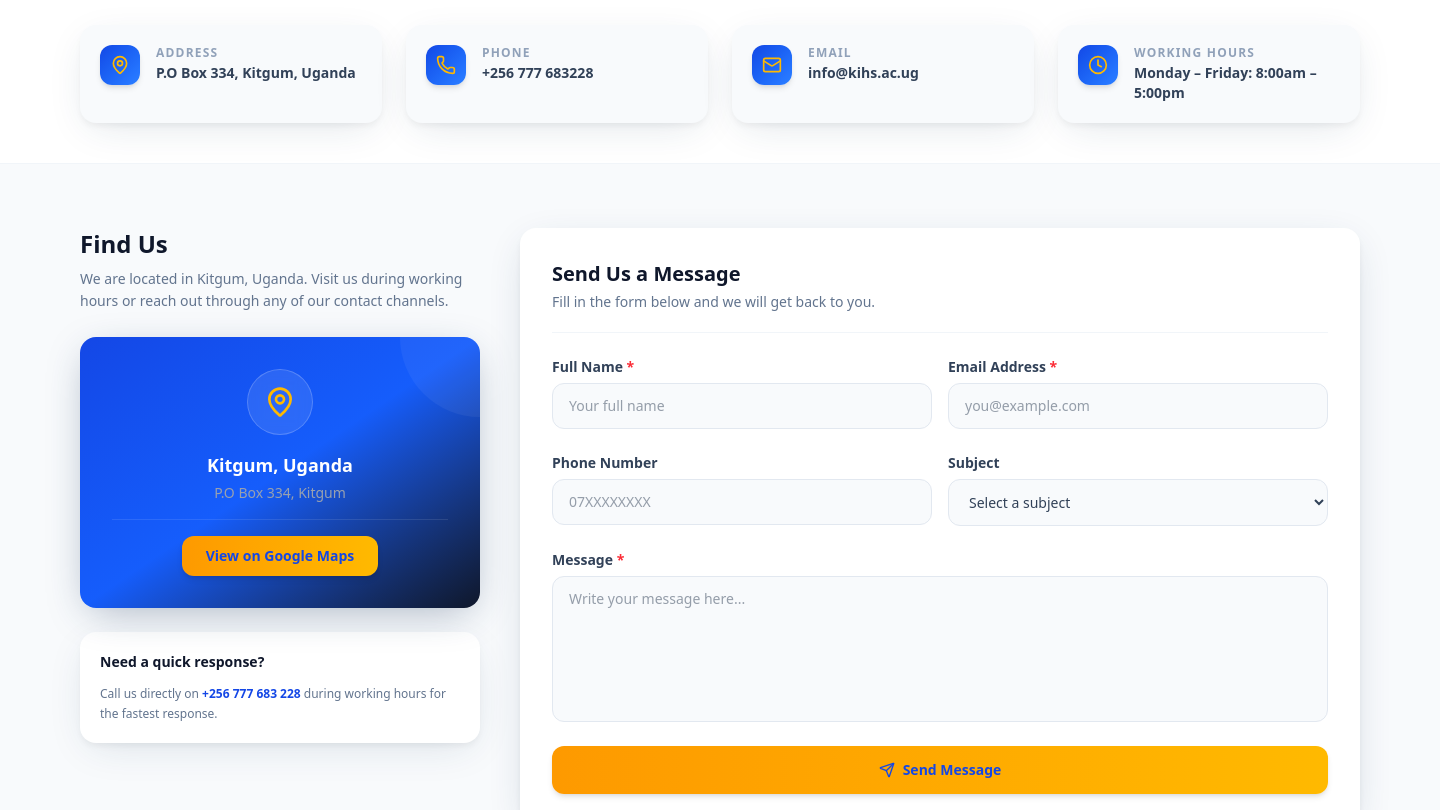
Test case: Contact page › can submit another message after success
(page scrolled)
In the field with placeholder "Your full name": (742, 406) [552,383,932,429], type "John Doe"
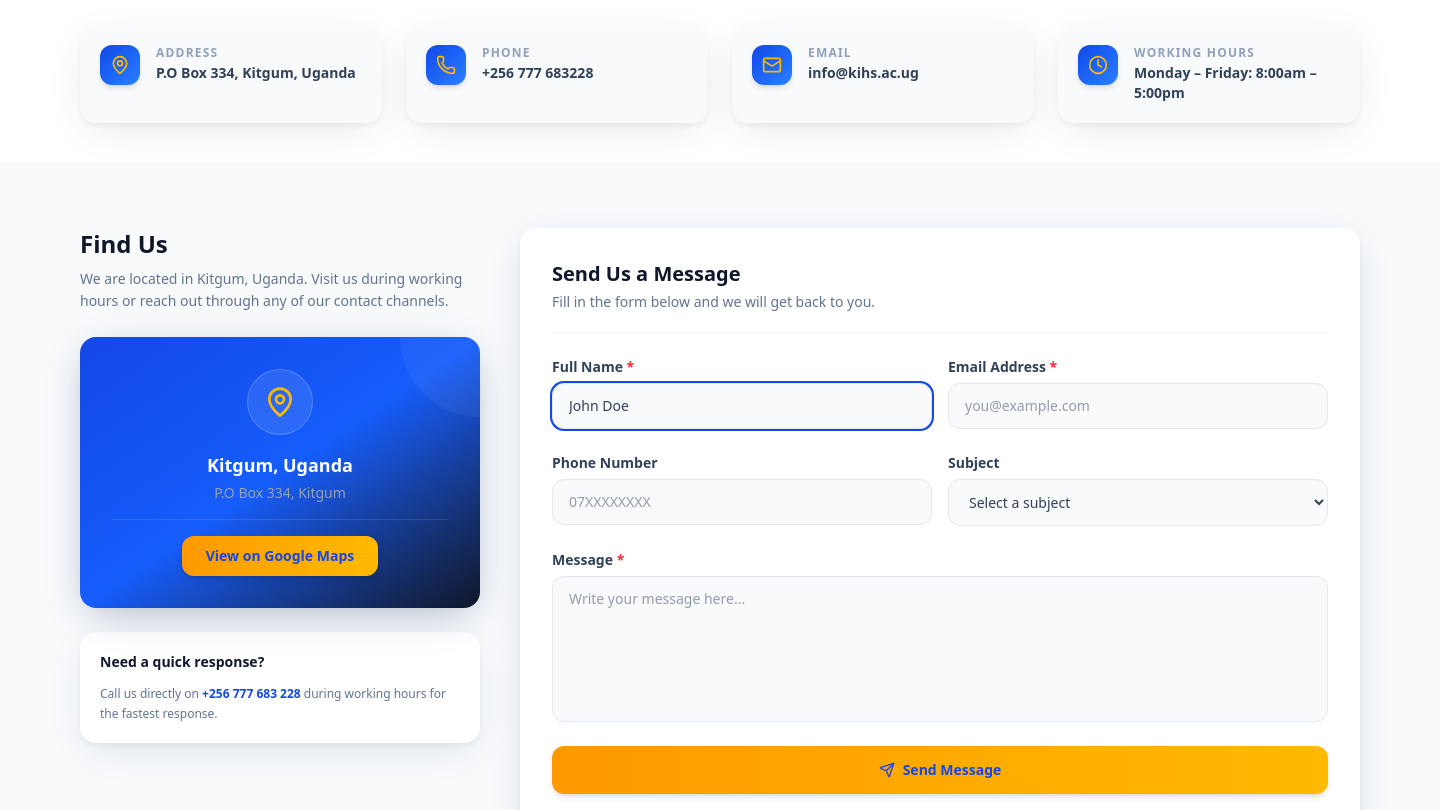
In the field with placeholder "you@example.com": (1138, 406) [948,383,1328,429], type "john@example.com"
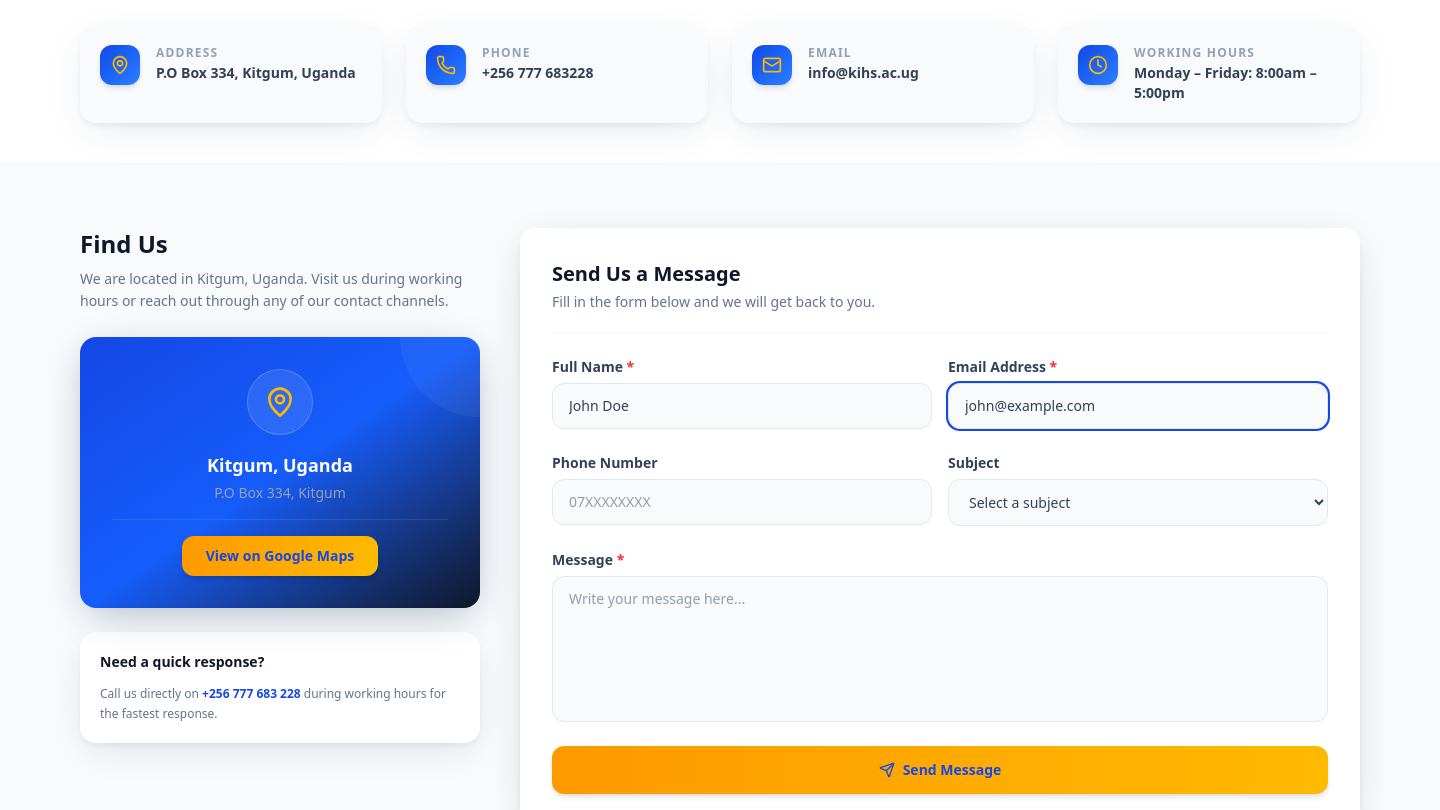
In the text box with placeholder "Write your message here...": (940, 649) [552,576,1328,722], type "Test message"
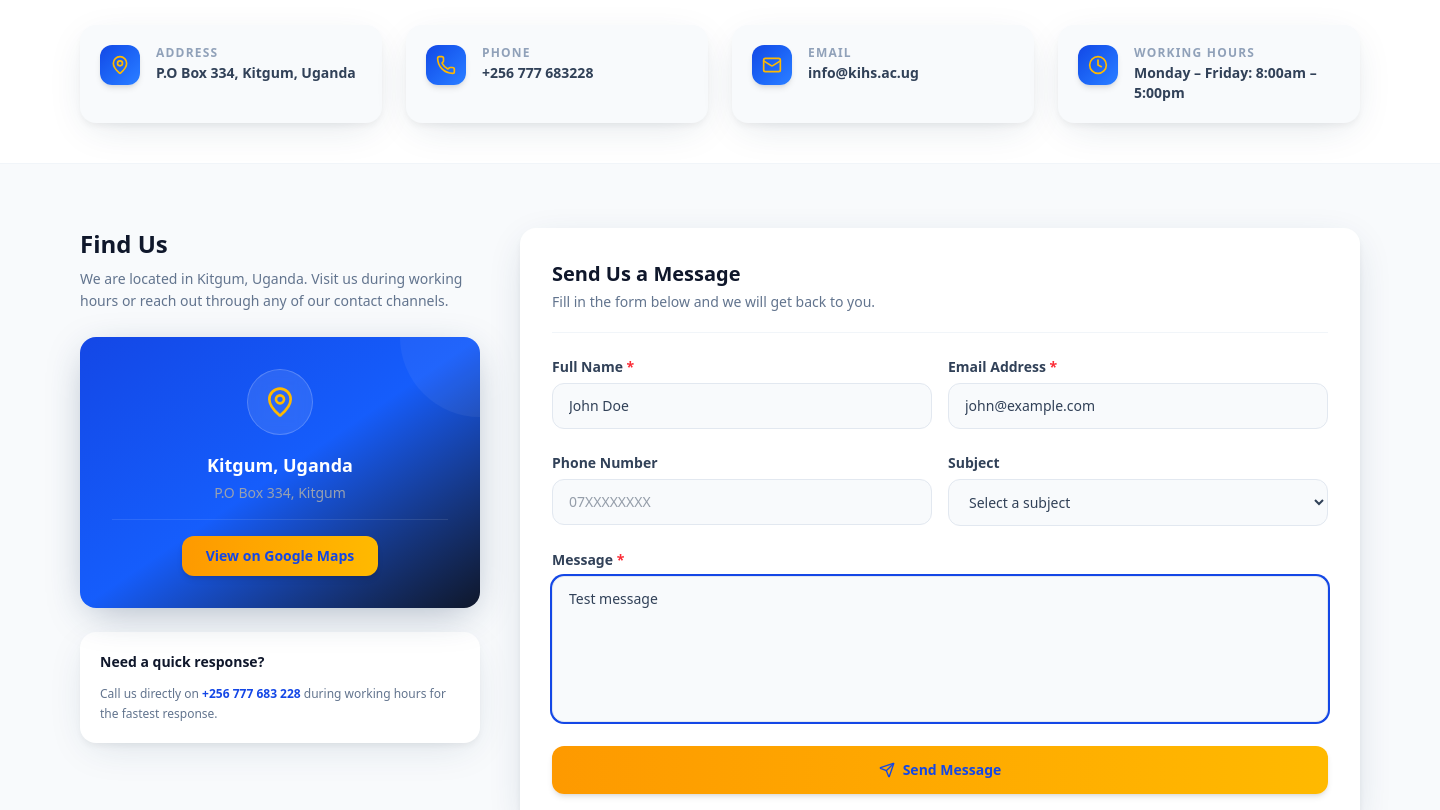
Click the button "Send Message": (940, 770) [552,746,1328,794]
(page scrolled)
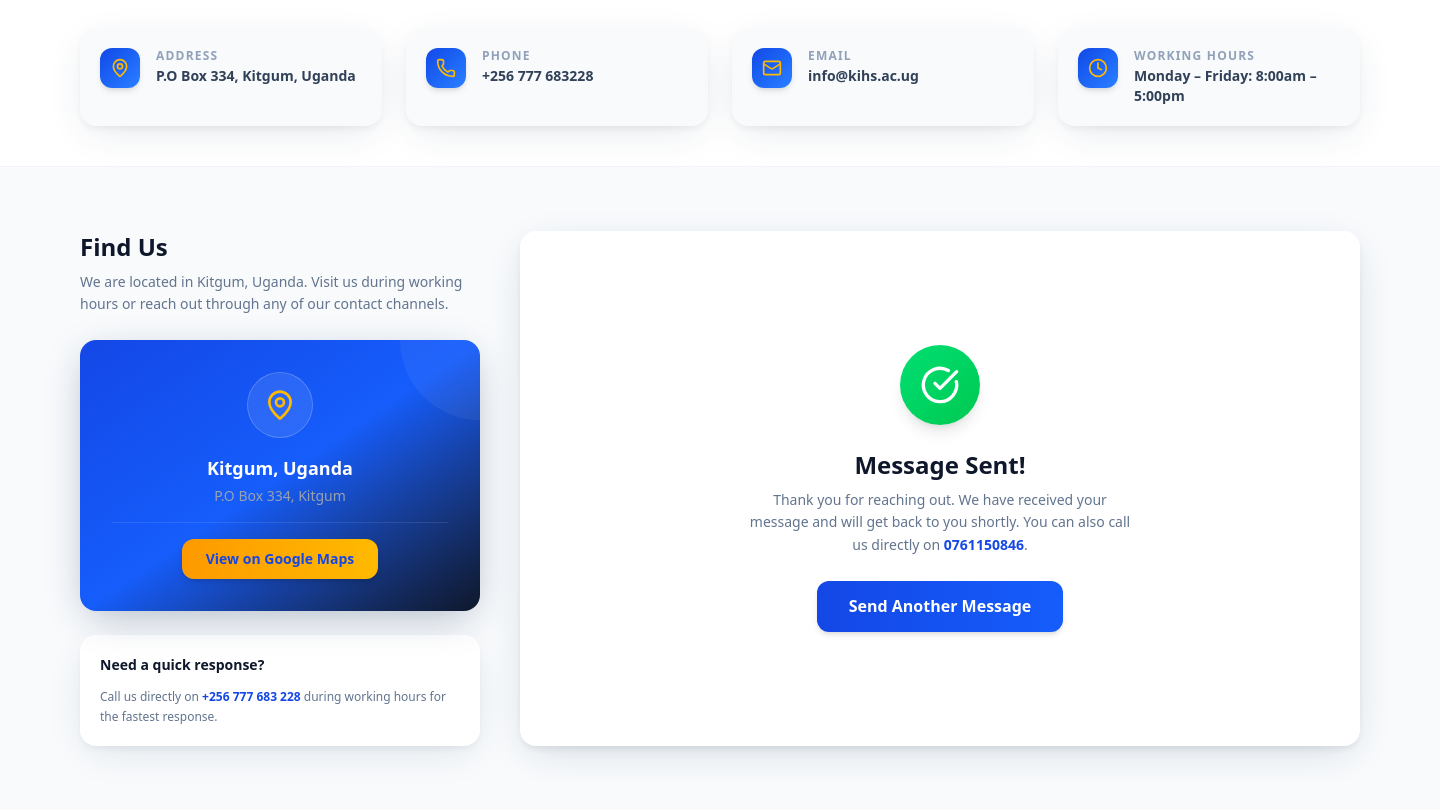
Click the button "Send Another Message": (940, 607) [817,581,1063,632]
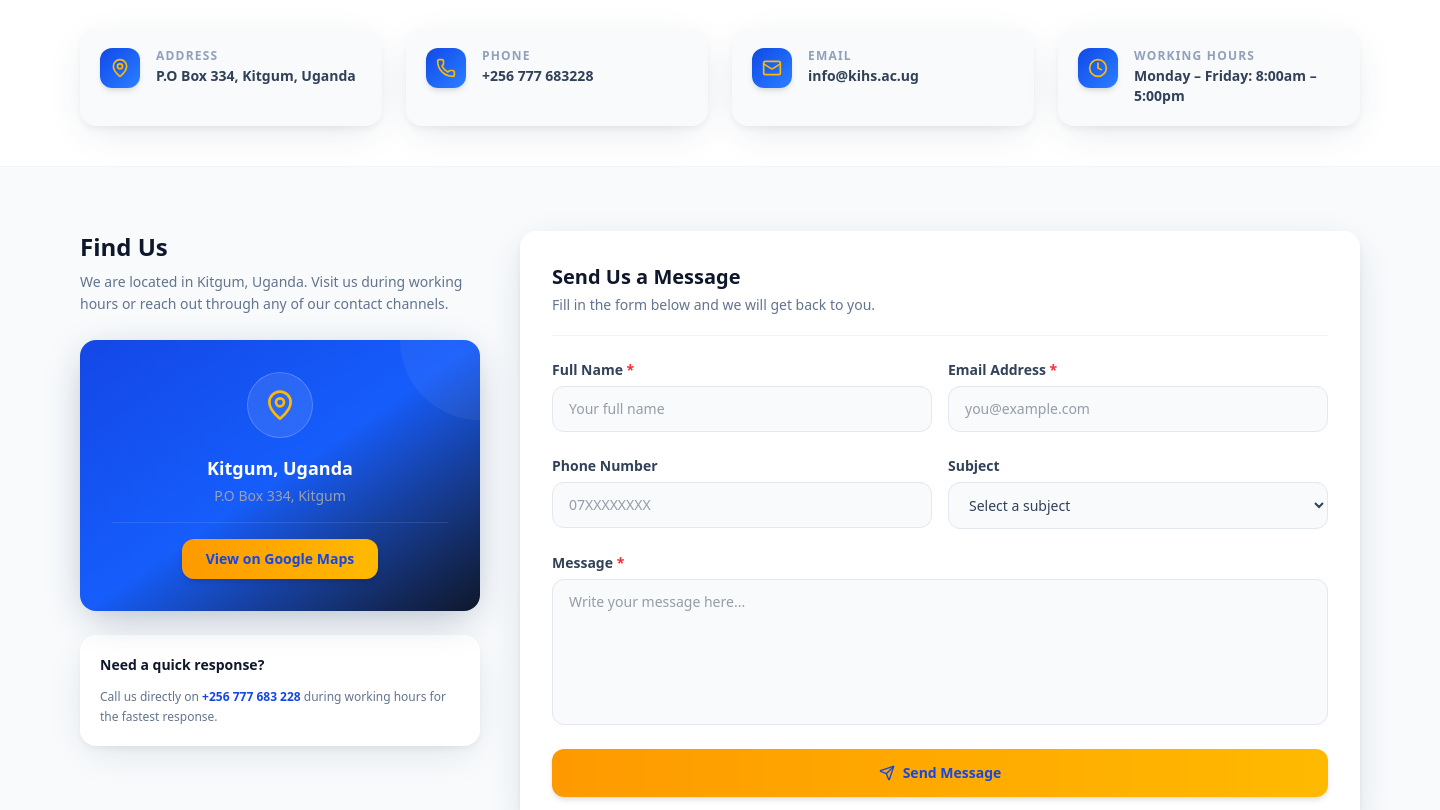
Result: the heading "Send Us a Message" is shown at [552,263,740,290]
